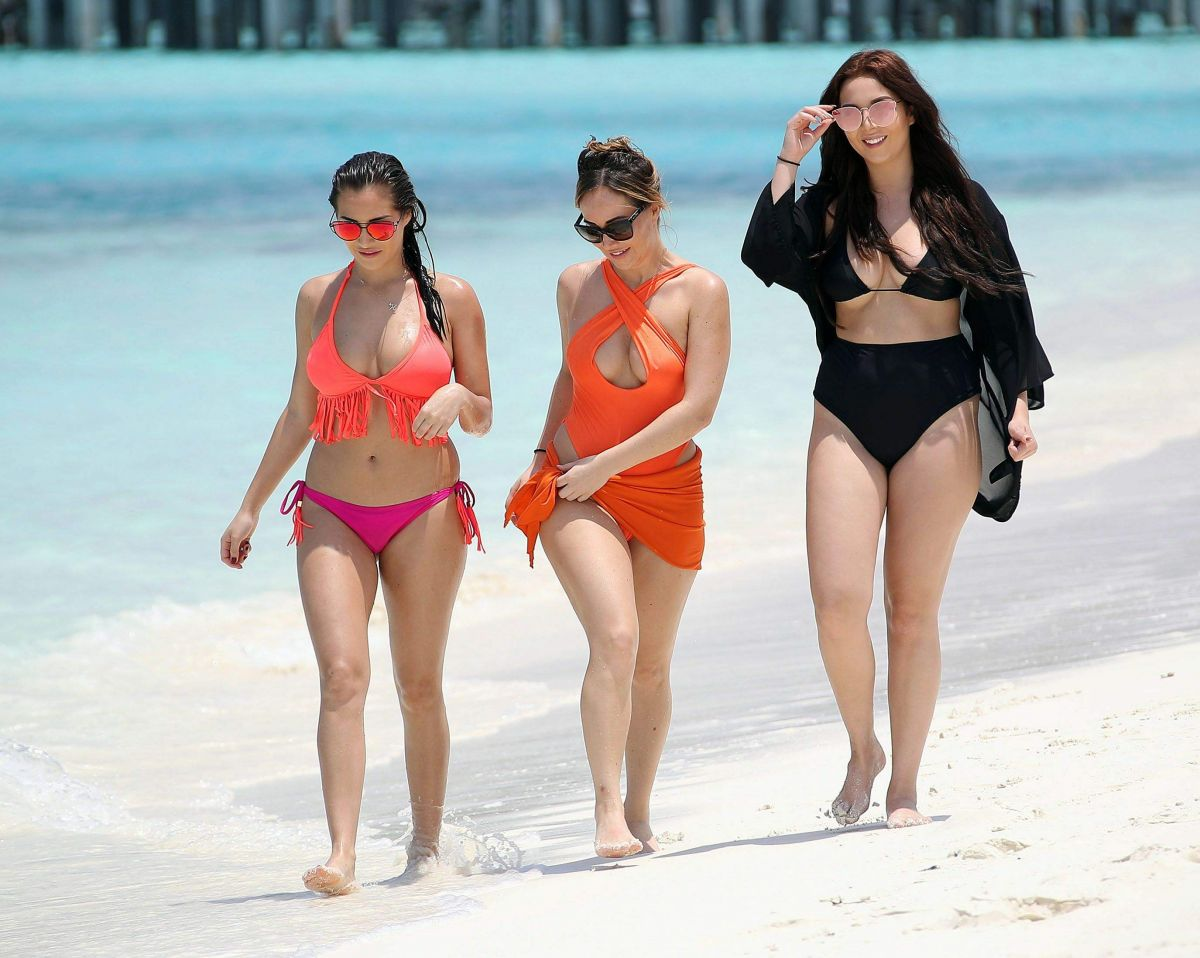Person: (733, 49, 1077, 849), (213, 115, 509, 904), (479, 132, 737, 879)
